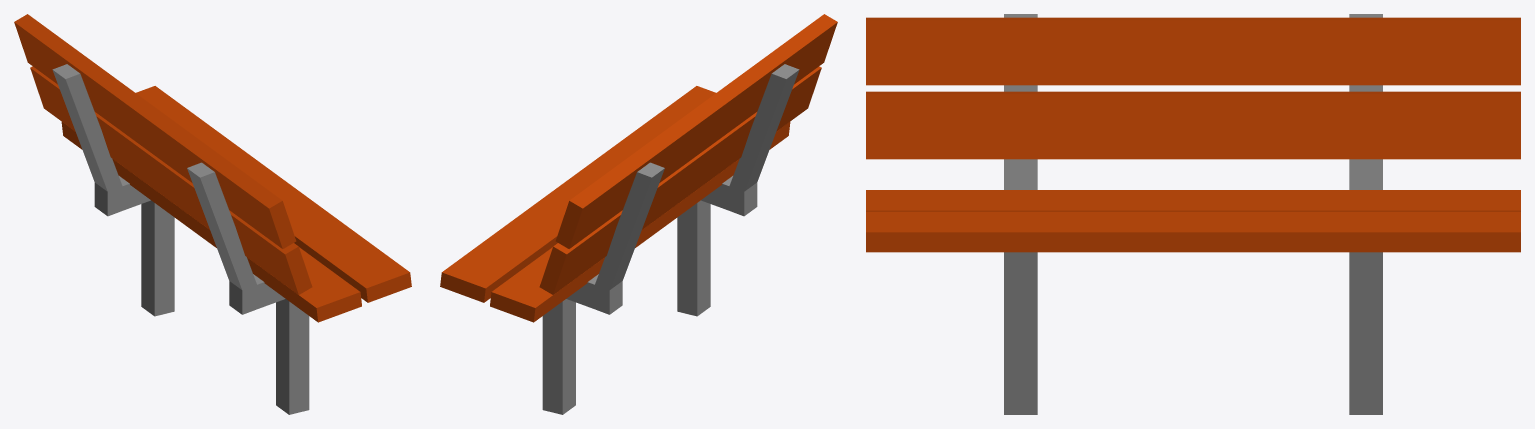
The model's file is ParkBench.fbx.
The picture shows the model from 3 angles, left to right: view 1: azimuth 30°, elevation 25°; view 2: azimuth 150°, elevation 25°; view 3: azimuth 270°, elevation 25°; orthographic projection. The views are drawn at different scales.
Visible parts, largest first — view 1: Cube, Frame; view 2: Cube, Frame; view 3: Cube, Frame.
Part boxes in pixels (left/top/right/bottom): Cube: left=14, top=14, right=411, bottom=322; Frame: left=52, top=64, right=309, bottom=414; Cube: left=440, top=14, right=837, bottom=322; Frame: left=542, top=64, right=799, bottom=414; Cube: left=866, top=17, right=1520, bottom=252; Frame: left=1004, top=14, right=1382, bottom=414.
Bounding box in the file's own units: 98.52 × 160 × 275.
